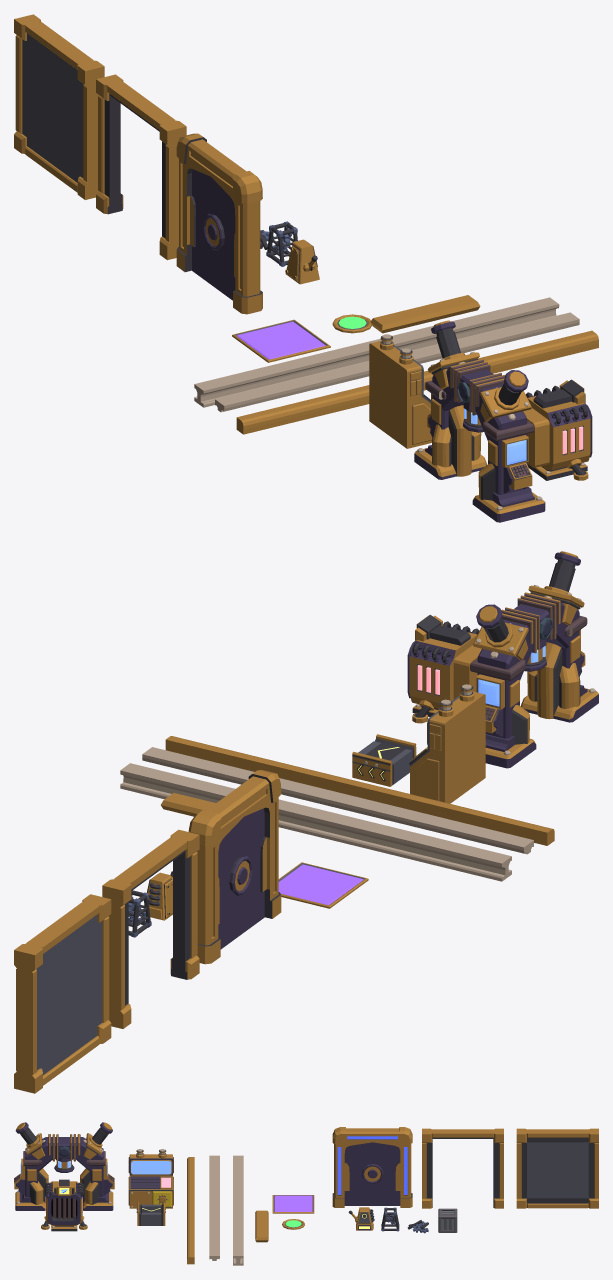
The model's file is factory_lent_1.fbx.
3 views of the same model, one above another, from view 1: azimuth 30°, elevation 25°; view 2: azimuth 150°, elevation 25°; view 3: azimuth 270°, elevation 25° (orthographic). The views are drawn at different scales.
Parts seen in each view (by area): view 1: droper_001, Cube.022, Vert, Cube.023, Cube.017, post_box_001, Cube, Cube.019, Cube.018, Cylinder.078, Cube.014, Cube.020 (+2 smaller); view 2: droper_001, Cube.022, Cube.017, Cube.023, Vert, Cube, Cube.019, Cube.018, post_box_001, Cylinder.078, Cube.014, conveyor_belt_001 (+3 smaller); view 3: Cube.022, droper_001, Cylinder.078, Vert, Cube, Cube.023, post_box_001, Cube.017, Cube.018, Cube.019, Cube.014, conveyor_belt_001 (+5 smaller).
Boxes of the visible parts, x1,y1,x2,y2 form: droper_001: (414, 320, 545, 522); Cube.022: (14, 14, 104, 199); Vert: (176, 133, 262, 314); Cube.023: (96, 74, 186, 260); Cube.017: (194, 297, 559, 407); post_box_001: (523, 379, 592, 480); Cube: (369, 334, 432, 448); Cube.019: (236, 330, 598, 434); Cube.018: (215, 312, 579, 412); Cylinder.078: (192, 169, 235, 300); Cube.014: (232, 319, 330, 362); Cube.020: (370, 295, 480, 333); droper_001: (470, 551, 598, 768); Cube.022: (14, 894, 111, 1093); Cube.017: (120, 763, 511, 881); Cube.023: (102, 829, 199, 1028); Vert: (188, 770, 281, 964); Cube: (409, 684, 485, 803); Cube.019: (165, 736, 554, 845); Cube.018: (142, 747, 533, 854); post_box_001: (407, 614, 481, 723); Cylinder.078: (218, 808, 264, 949); Cube.014: (278, 862, 368, 908); conveyor_belt_001: (352, 734, 416, 786); Cube.022: (516, 1128, 598, 1208); droper_001: (14, 1122, 114, 1210); Cylinder.078: (344, 1142, 400, 1205); Vert: (332, 1127, 412, 1207); Cube: (128, 1149, 173, 1208); Cube.023: (422, 1128, 503, 1208); post_box_001: (41, 1179, 87, 1231); Cube.017: (233, 1155, 243, 1265); Cube.018: (209, 1155, 219, 1260); Cube.019: (187, 1157, 194, 1264); Cube.014: (272, 1195, 314, 1213); conveyor_belt_001: (136, 1202, 165, 1225).
Size of the model in its own units: 12 by 4.6 by 29.6.
